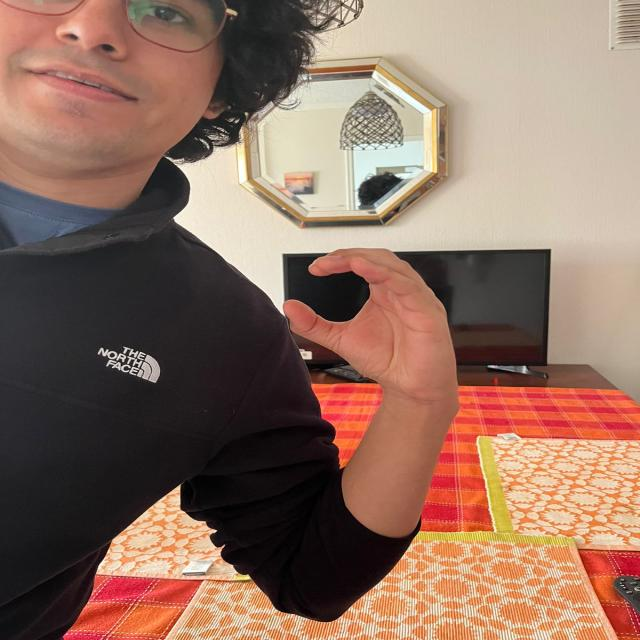C: (274, 229, 462, 401)
